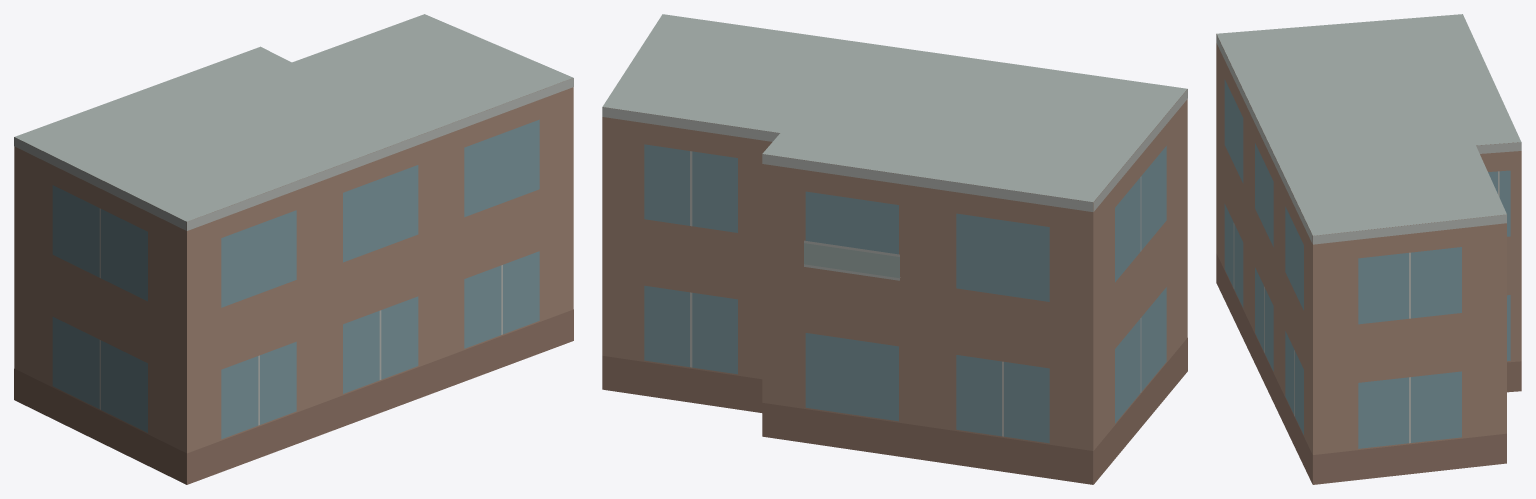
File: survey-upis-32513012.glb
3 views of the same model, side by side, from view 1: azimuth 30°, elevation 25°; view 2: azimuth 150°, elevation 25°; view 3: azimuth 270°, elevation 25° (orthographic). The views are drawn at different scales.
Parts seen in each view (by area): view 1: survey-upis-32513012.tmp; view 2: survey-upis-32513012.tmp; view 3: survey-upis-32513012.tmp.
Boxes of the visible parts, bbox=[...] form: survey-upis-32513012.tmp: bbox=[14, 14, 573, 484]; survey-upis-32513012.tmp: bbox=[602, 14, 1187, 484]; survey-upis-32513012.tmp: bbox=[1216, 14, 1521, 484].
Bounding box in the file's own units: 13.19 × 6.9 × 7.67.
